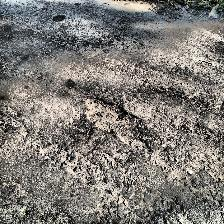pothole: (83, 96, 151, 150)
